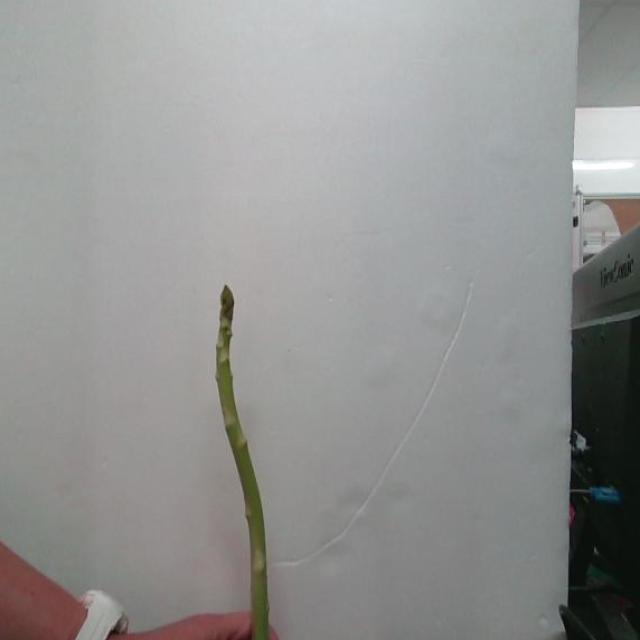aspargus: (217, 288, 277, 640)
